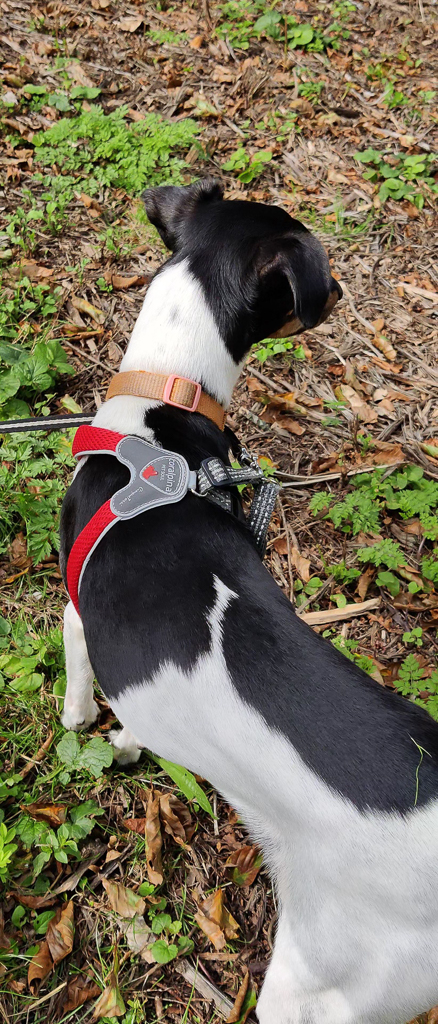Dog: (14, 154, 438, 1024)
